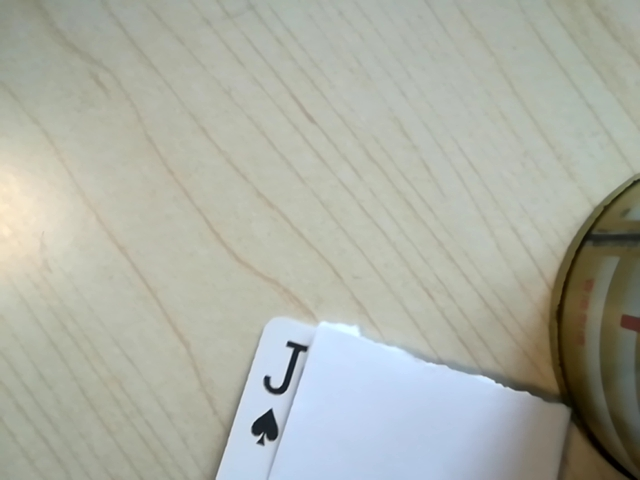ht j: (238, 334, 313, 465)
